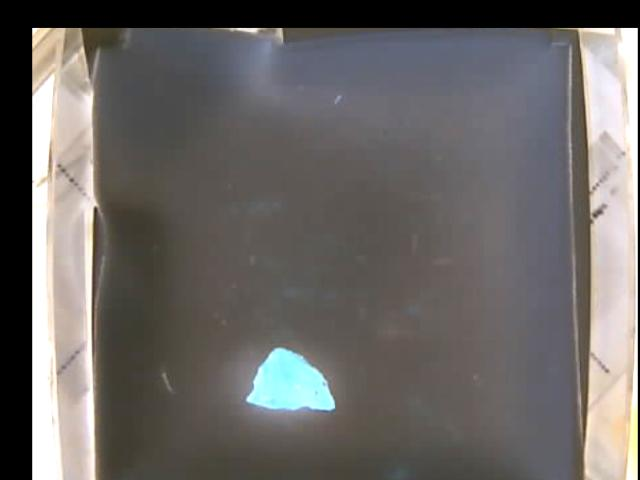Brisk: (243, 346, 335, 412)
